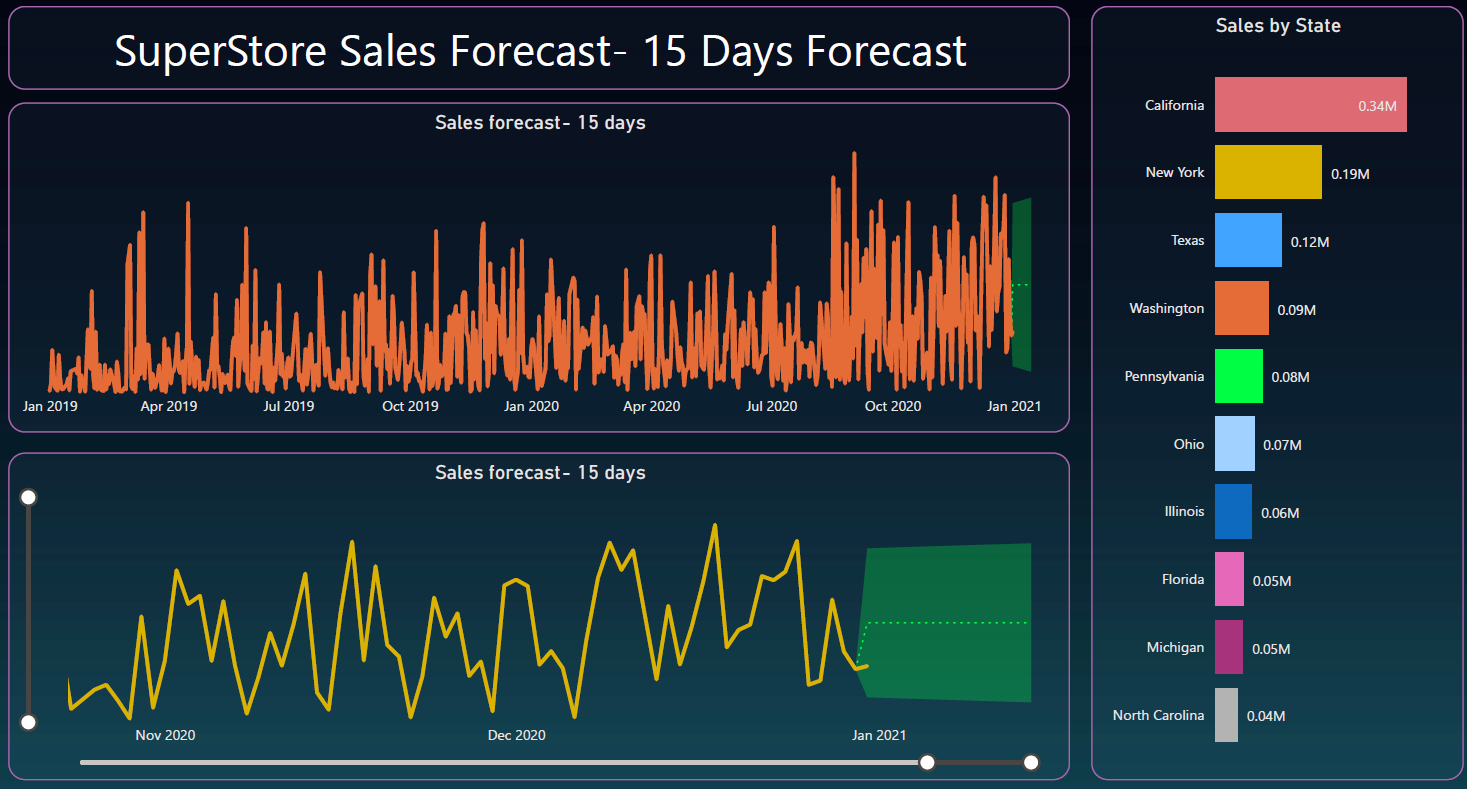

The page's visual inventory and layout, read from the dashboard file:
{"tool":"powerbi","page":{"name":"Forecast ","canvas":[1280,720],"ordinal":1},"visuals":[{"type":"lineChart","title":"Sales forecast- 15 days","fields":{"Y":["Sum(SuperStore_Sales.Sales)"],"Category":["SuperStore_Sales.Order Date"]},"box":[34,113.8,900.7,280.1],"z":0},{"type":"lineChart","title":"Sales forecast- 15 days","fields":{"Y":["Sum(SuperStore_Sales.Sales)"],"Category":["SuperStore_Sales.Order Date"]},"box":[34,411.4,900.7,277.2],"z":1000},{"type":"clusteredBarChart","title":"Sales by State","fields":{"Category":["SuperStore_Sales.State"],"Y":["Sum(SuperStore_Sales.Sales)"]},"box":[953.2,32.1,316.1,656.5],"z":2000},{"type":"textbox","box":[34,32.1,900.7,71],"z":3000}]}

Visuals, with their boxes on the page's 1280x720 design canvas (x1, y1, x2, y2). These are canvas units, not pixel positions in the 1467x789 screenshot, which may show the page scaled, cropped or inside an application window:
"Sales forecast- 15 days" lineChart: bbox=[34, 114, 935, 394]
"Sales forecast- 15 days" lineChart: bbox=[34, 411, 935, 689]
"Sales by State" clusteredBarChart: bbox=[953, 32, 1269, 689]
textbox: bbox=[34, 32, 935, 103]
